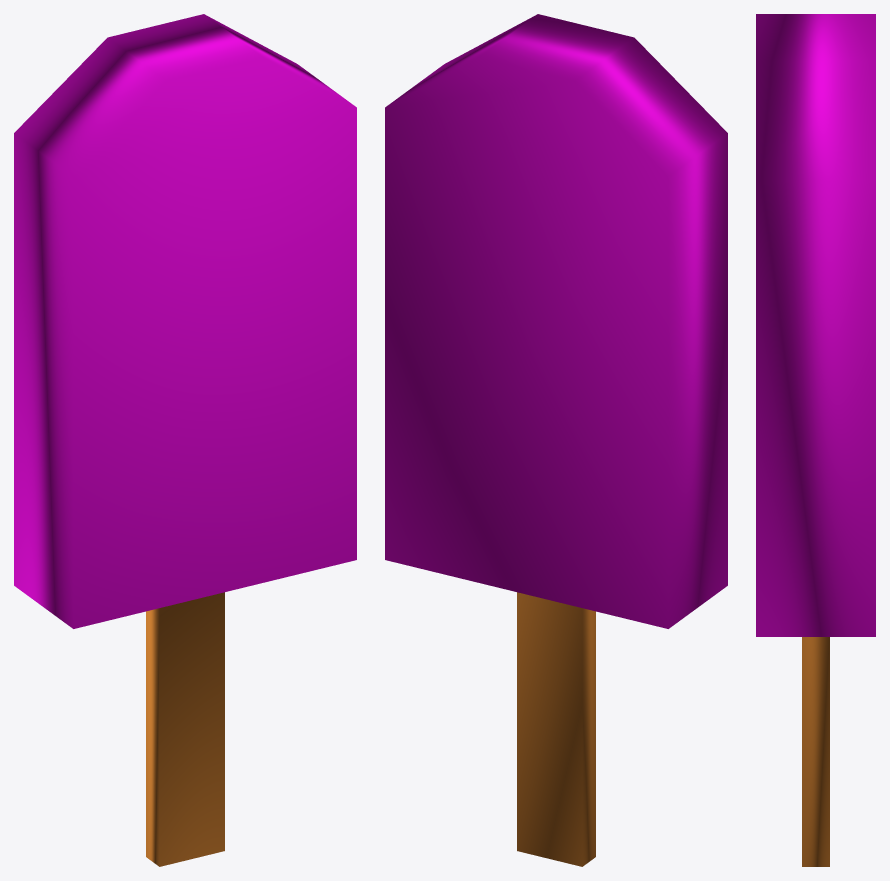
Rendered from ice_cream_2.fbx.
3 views of the same model, side by side, from view 1: azimuth 30°, elevation 25°; view 2: azimuth 150°, elevation 25°; view 3: azimuth 270°, elevation 25° (orthographic).
Visible parts, largest first — view 1: Cube; view 2: Cube; view 3: Cube.
Boxes of the visible parts, left/top/right/bottom form: Cube: left=14, top=14, right=356, bottom=866; Cube: left=385, top=14, right=727, bottom=866; Cube: left=756, top=14, right=875, bottom=866.
Bounding box in the file's own units: 2 × 5.44 × 0.727.
